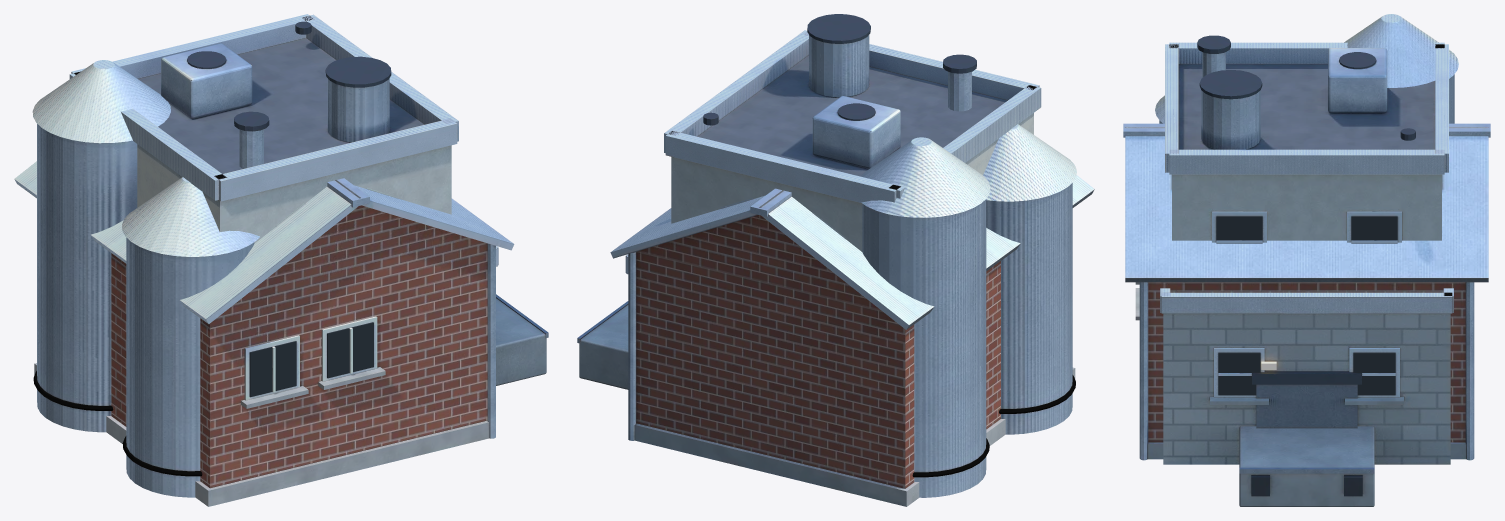
The model's file is factories.glb.
3 views of the same model, side by side, from view 1: azimuth 30°, elevation 25°; view 2: azimuth 150°, elevation 25°; view 3: azimuth 270°, elevation 25° (orthographic). The views are drawn at different scales.
Visible parts, largest first — view 1: factory0, factory1, factory2, roof2, roof1, roof0, win0; view 2: factory0, factory1, factory2, roof2, roof1, roof0; view 3: factory2, factory1, factory0, roof0, roof2, roof1, win1, win2.
Part boxes in pixels (left/top/right/bottom): factory0: left=34, top=111, right=548, bottom=506; factory1: left=33, top=124, right=254, bottom=497; factory2: left=137, top=21, right=451, bottom=243; roof2: left=69, top=14, right=458, bottom=201; roof1: left=32, top=60, right=498, bottom=266; roof0: left=14, top=161, right=514, bottom=323; win0: left=249, top=322, right=373, bottom=397; factory0: left=577, top=54, right=1075, bottom=506; factory1: left=862, top=183, right=1075, bottom=497; factory2: left=671, top=14, right=1033, bottom=251; roof2: left=664, top=30, right=1041, bottom=202; roof1: left=625, top=124, right=1076, bottom=274; roof0: left=610, top=175, right=1094, bottom=329; factory2: left=1172, top=48, right=1441, bottom=243; factory1: left=1159, top=74, right=1454, bottom=464; factory0: left=1123, top=35, right=1490, bottom=506; roof0: left=1125, top=127, right=1488, bottom=282; roof2: left=1165, top=42, right=1448, bottom=174; roof1: left=1155, top=14, right=1458, bottom=313; win1: left=1218, top=352, right=1395, bottom=395; win2: left=1216, top=216, right=1397, bottom=243.
Bounding box in the file's own units: 5.56 × 4.38 × 4.35.
Materials: 9 (6 with a texture image).
